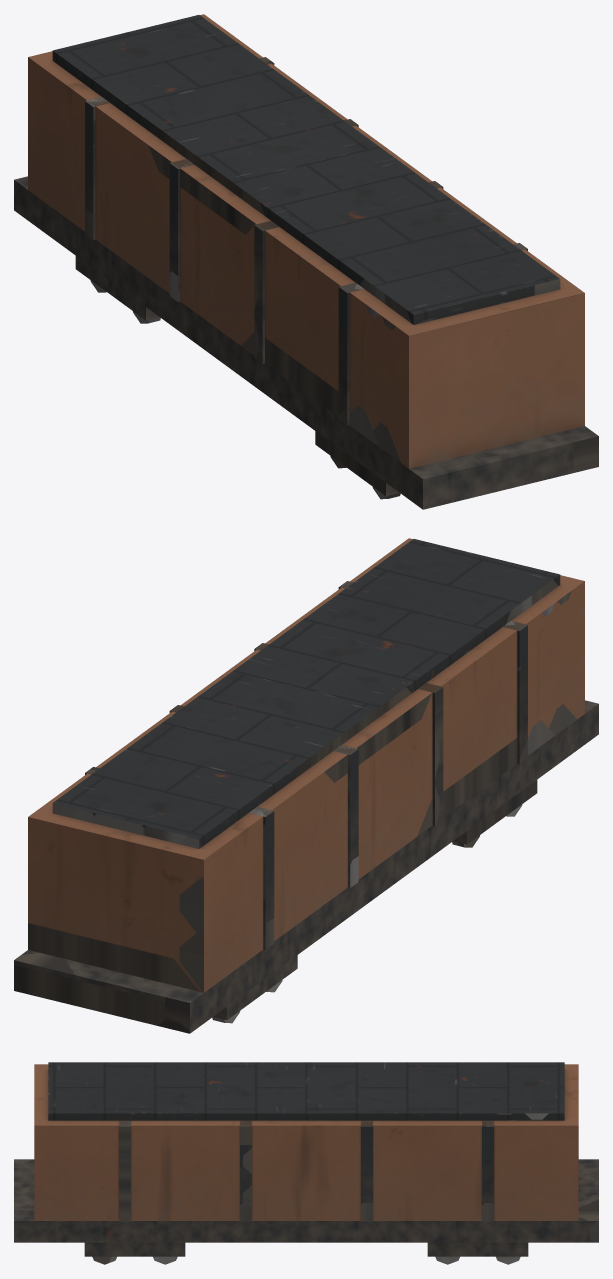
The model's file is vagao_carga.glb.
3 views of the same model, one above another, from view 1: azimuth 30°, elevation 25°; view 2: azimuth 150°, elevation 25°; view 3: azimuth 270°, elevation 25° (orthographic). The views are drawn at different scales.
Parts seen in each view (by area): view 1: vagao_carga_corpo, vagao_carga_truque1, vagao_carga_truque0; view 2: vagao_carga_corpo, vagao_carga_truque0, vagao_carga_truque1; view 3: vagao_carga_corpo, vagao_carga_truque0, vagao_carga_truque1.
Part boxes in pixels (box(x1,y1,x2,y2)): vagao_carga_corpo: box(14, 14, 598, 509); vagao_carga_truque1: box(75, 256, 160, 323); vagao_carga_truque0: box(315, 431, 400, 499); vagao_carga_corpo: box(14, 538, 598, 1033); vagao_carga_truque0: box(452, 780, 537, 847); vagao_carga_truque1: box(212, 955, 297, 1023); vagao_carga_corpo: box(14, 1062, 598, 1242); vagao_carga_truque0: box(84, 1242, 185, 1264); vagao_carga_truque1: box(427, 1242, 528, 1264).
Bounding box in the file's own units: 0.74 × 0.84 × 2.9.
Materials: 1 (1 with a texture image).
